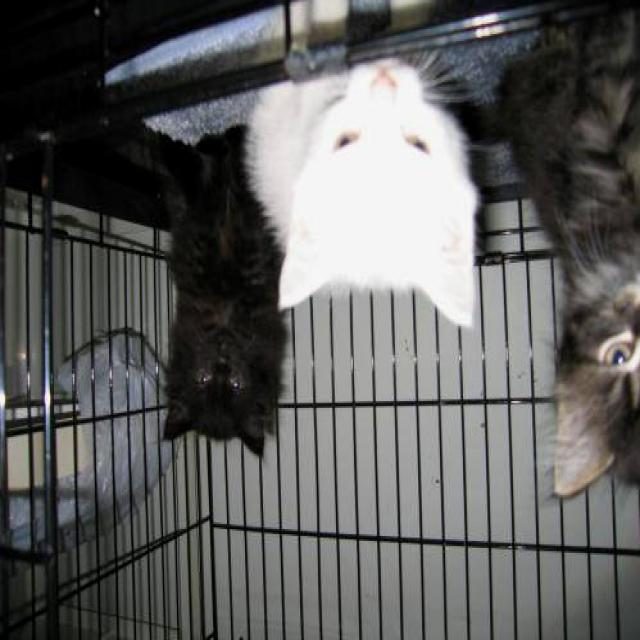Kucing: (265, 20, 490, 283), (103, 306, 320, 526), (528, 203, 640, 526)
